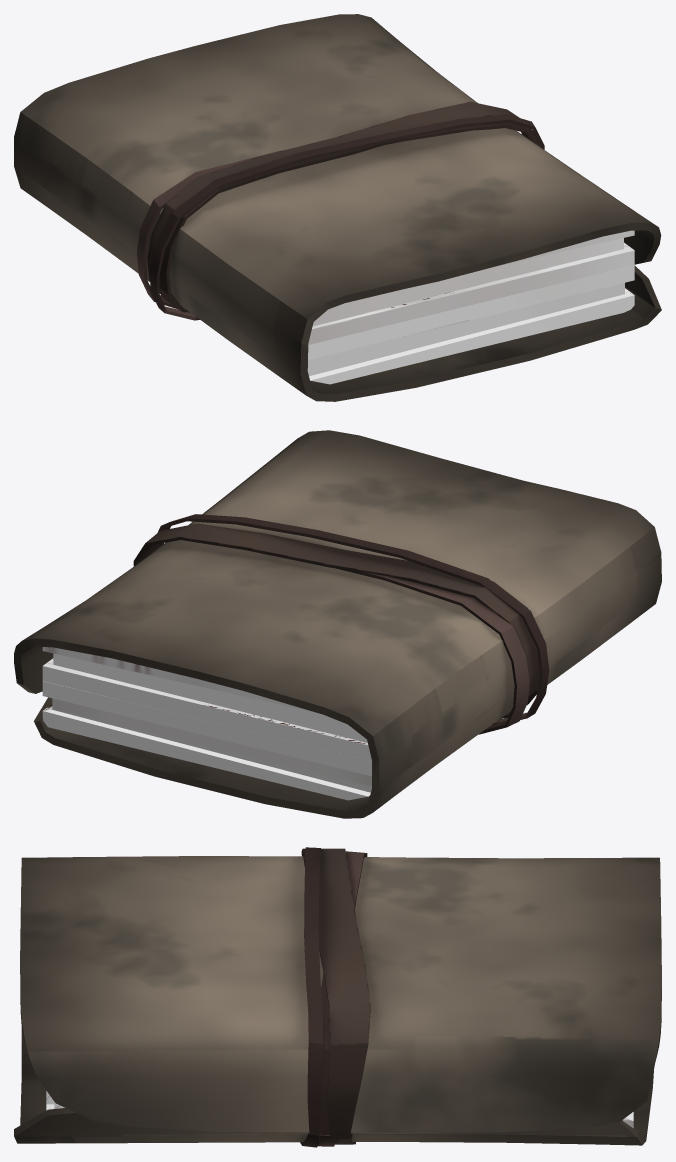
File: journal(textured).fbx
3 views of the same model, one above another, from view 1: azimuth 30°, elevation 25°; view 2: azimuth 150°, elevation 25°; view 3: azimuth 270°, elevation 25° (orthographic). The views are drawn at different scales.
Parts seen in each view (by area): view 1: Cube.003; view 2: Cube.003; view 3: Cube.003.
Part boxes in pixels (bbox=[...]): Cube.003: bbox=[14, 14, 661, 401]; Cube.003: bbox=[14, 430, 661, 818]; Cube.003: bbox=[14, 847, 661, 1147].
Size of the model in its own units: 284 by 102 by 359.
Materials: 1 (1 with a texture image).
